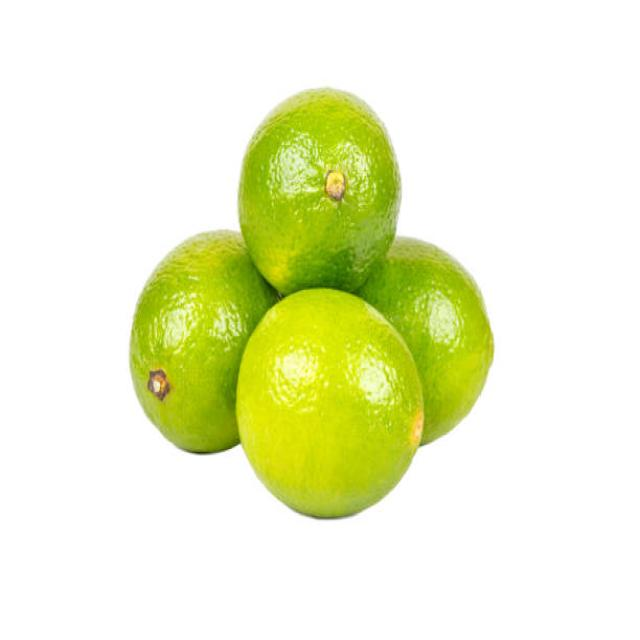Unripe: (237, 288, 423, 520), (238, 85, 402, 294)
